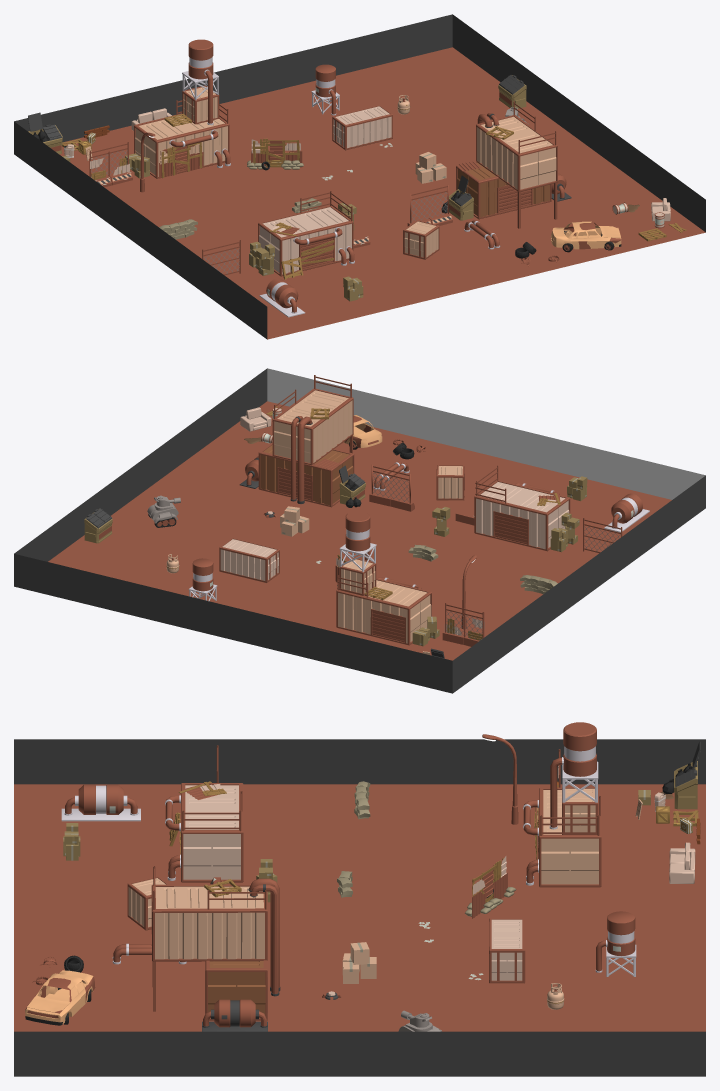
The model's file is map1.glb.
3 views of the same model, one above another, from view 1: azimuth 30°, elevation 25°; view 2: azimuth 150°, elevation 25°; view 3: azimuth 270°, elevation 25° (orthographic). The views are drawn at different scales.
Visible parts, largest first — view 1: Plane, Structure_4, Structure_3, Structure_1, Container_Long, Debris_BrokenCar, Barrier_Trash, Container_Small, Barrier_Fixed, WaterTank_Platform, WaterTank_Floor, Barrier_Large (+3 smaller); view 2: Plane, Structure_4, Structure_3, Structure_1, Container_Long, Barrier_Fixed, Container_Small, Barrier_Large, WaterTank_Floor, WaterTank_Platform, TrashContainer, Tank (+3 smaller); view 3: Plane, Structure_4, Structure_3, Structure_1, Debris_BrokenCar, Container_Long, WaterTank_Floor, WaterTank_Platform, Barrier_Trash, TrashContainer_Open, Container_Small, Sofa (+2 smaller).
Boxes of the visible parts, bbox=[...] form: Plane: bbox=[14, 14, 705, 339]; Structure_4: bbox=[441, 101, 571, 228]; Structure_3: bbox=[125, 39, 230, 178]; Structure_1: bbox=[249, 191, 354, 279]; Container_Long: bbox=[332, 105, 392, 150]; Debris_BrokenCar: bbox=[550, 221, 621, 252]; Barrier_Trash: bbox=[247, 138, 303, 170]; Container_Small: bbox=[403, 220, 439, 259]; Barrier_Fixed: bbox=[89, 141, 132, 187]; WaterTank_Platform: bbox=[311, 64, 339, 115]; WaterTank_Floor: bbox=[259, 278, 305, 317]; Barrier_Large: bbox=[407, 184, 452, 226]; Plane: bbox=[14, 368, 705, 693]; Structure_4: bbox=[239, 375, 365, 507]; Structure_3: bbox=[336, 511, 439, 646]; Structure_1: bbox=[474, 465, 579, 552]; Container_Long: bbox=[219, 537, 279, 582]; Barrier_Fixed: bbox=[442, 602, 484, 646]; Container_Small: bbox=[436, 465, 464, 500]; Barrier_Large: bbox=[369, 464, 414, 511]; WaterTank_Floor: bbox=[604, 493, 649, 532]; WaterTank_Platform: bbox=[188, 558, 217, 601]; TrashContainer: bbox=[84, 508, 112, 543]; Tank: bbox=[147, 495, 180, 527]; Plane: bbox=[14, 739, 705, 1076]; Structure_4: bbox=[151, 866, 280, 1031]; Structure_3: bbox=[523, 722, 601, 887]; Structure_1: bbox=[165, 781, 243, 882]; Debris_BrokenCar: bbox=[25, 970, 95, 1025]; Container_Long: bbox=[489, 918, 525, 983]; WaterTank_Floor: bbox=[61, 784, 140, 821]; WaterTank_Platform: bbox=[595, 911, 636, 976]; Barrier_Trash: bbox=[465, 856, 516, 918]; TrashContainer_Open: bbox=[661, 741, 700, 809]; Container_Small: bbox=[127, 876, 169, 930]; Sofa: bbox=[669, 842, 695, 883].
Bounding box in the file's own units: 39.88 × 9.59 × 39.88.
Materials: 25 (1 with a texture image).
